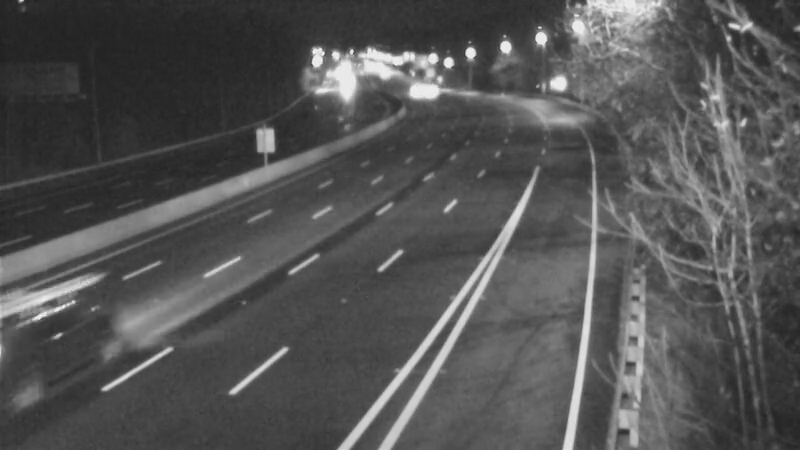vehicle: (1, 285, 107, 395), (407, 66, 457, 116), (391, 66, 441, 116)
